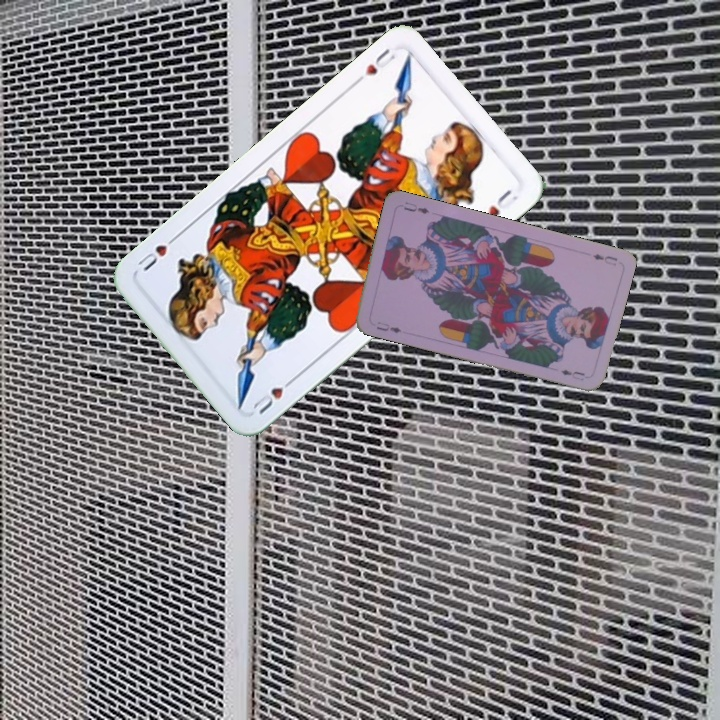EU: (372, 317, 404, 336), (589, 250, 620, 268)
HU: (248, 373, 299, 417), (361, 44, 398, 79)
